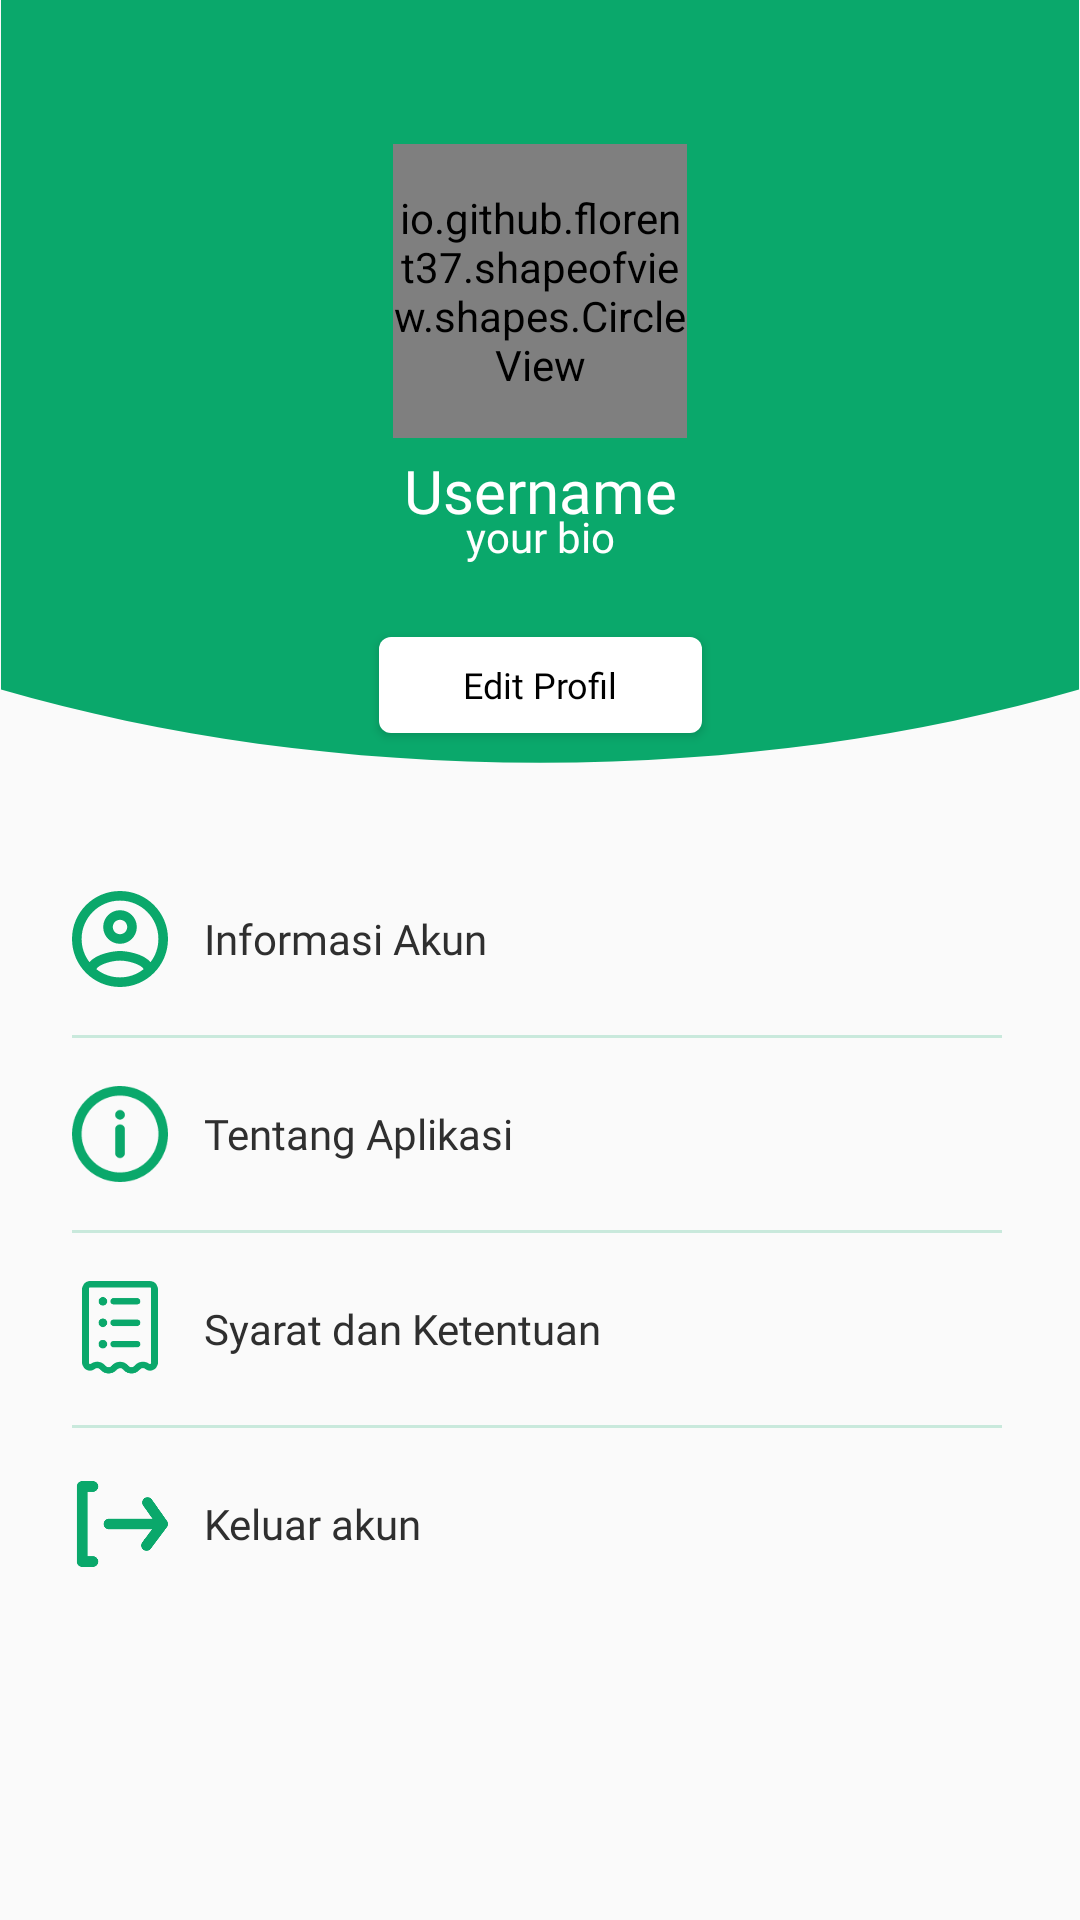

Icons on this 1080x1920 Android screen, each with the point to tap as point (x, y):
log out: point (122, 1524)
